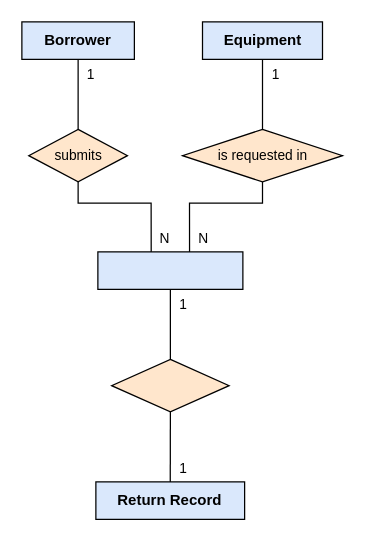
The diagram is 365 pixels wide and 541 high, and some of its shapes have lost their labels. Here are the shapes that lost their labels. From the top down, the centre of each, then its label:
At point 170,270: "Loan Request".
At point 169,385: "has return".
